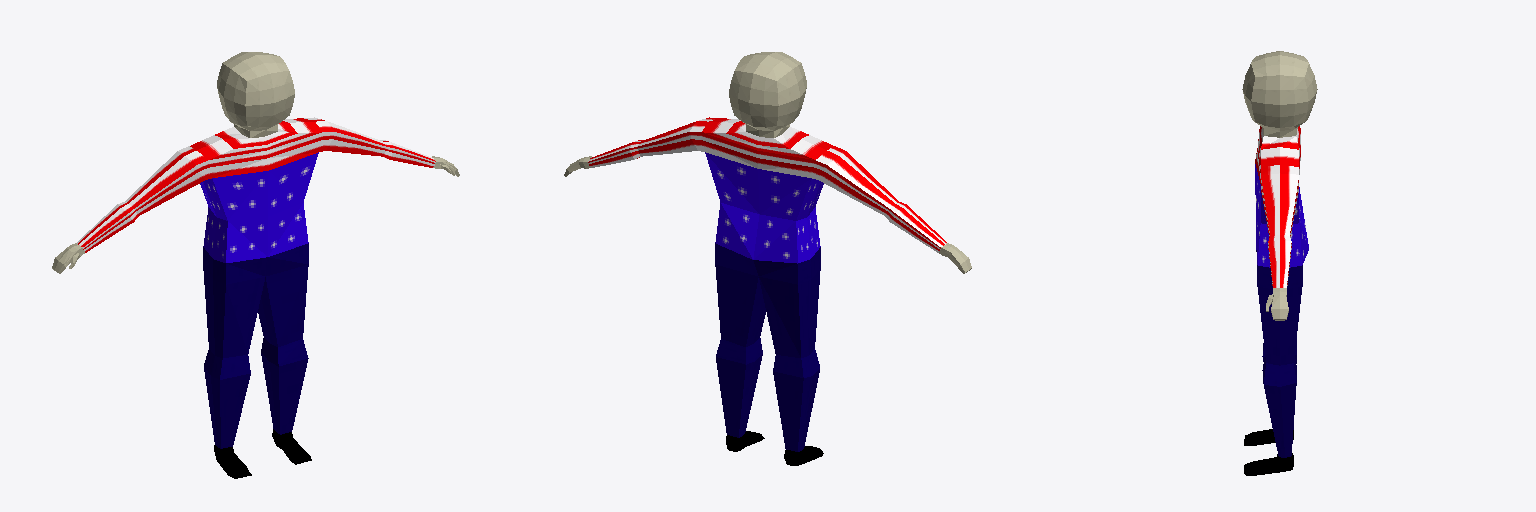
3 renders of one model, left to right at view 1: azimuth 30°, elevation 25°; view 2: azimuth 150°, elevation 25°; view 3: azimuth 270°, elevation 25°, orthographic.
Parts seen in each view (by area): view 1: Cube; view 2: Cube; view 3: Cube.
Part boxes in pixels (x1,y1,x2,y2): Cube: (52, 52, 459, 478); Cube: (564, 52, 971, 465); Cube: (1242, 51, 1317, 475).
Size of the model in its own units: 6.74 by 6.43 by 1.09.
Materials: 1 (1 with a texture image).